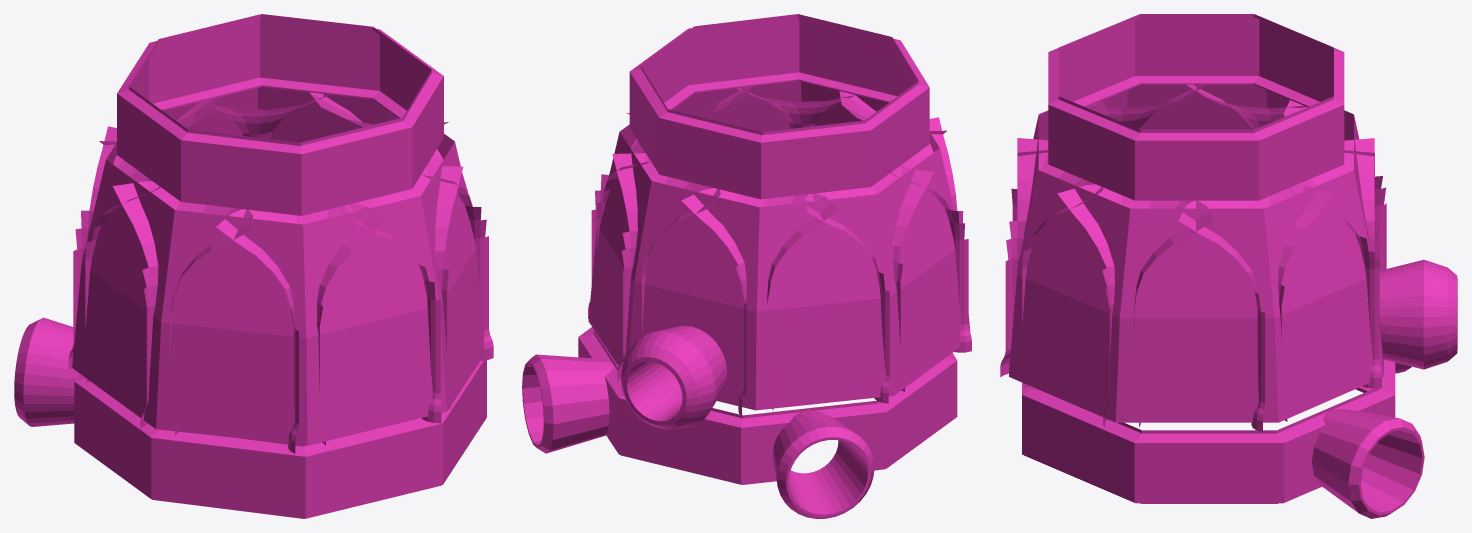
The model's file is NewCol_TowerInterior.fbx.
3 views of the same model, side by side, from view 1: azimuth 30°, elevation 25°; view 2: azimuth 150°, elevation 25°; view 3: azimuth 270°, elevation 25° (orthographic). The views are drawn at different scales.
Parts seen in each view (by area): view 1: Circle; view 2: Circle; view 3: Circle.
Boxes of the visible parts, x1=… form: Circle: x1=14, y1=14, x2=493, y2=518; Circle: x1=522, y1=14, x2=971, y2=518; Circle: x1=1000, y1=14, x2=1457, y2=518.
Bounding box in the file's own units: 10107 × 9625 × 10843.
